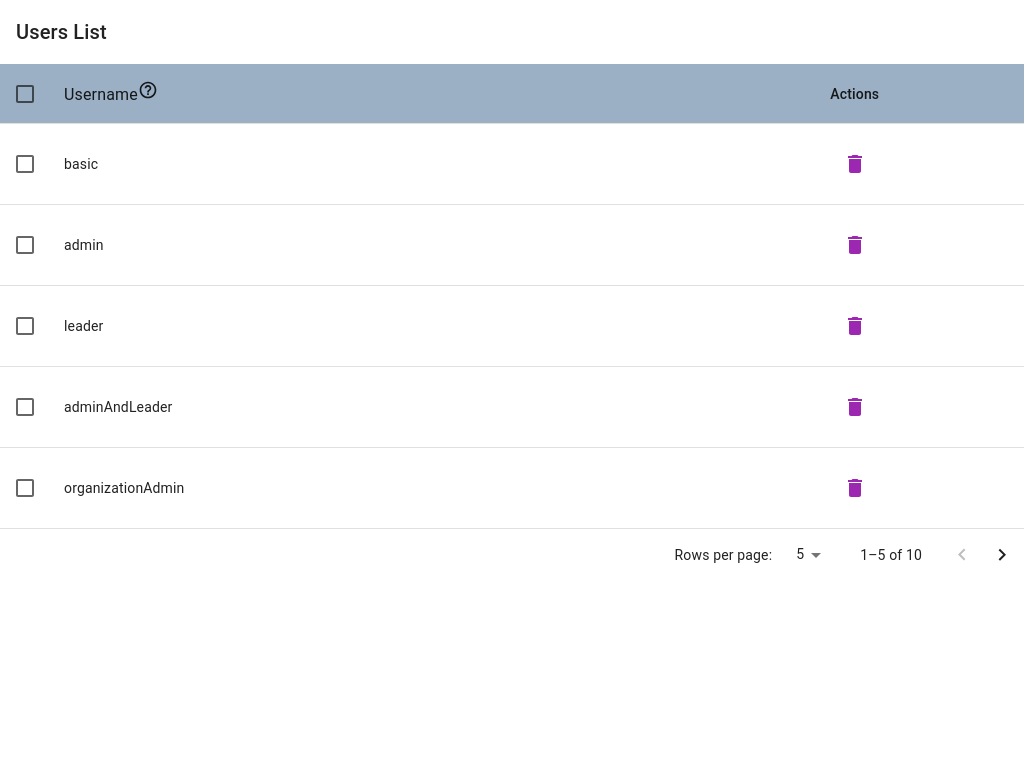
ManageUsersTable › UsersTable checkbox logic › show all users as checked if select all is clicked
The width and height of the screenshot is (1036, 768).
Click the checkbox named "select all users" at {"x": 25, "y": 94}, box x1=13 y1=82 x2=37 y2=106
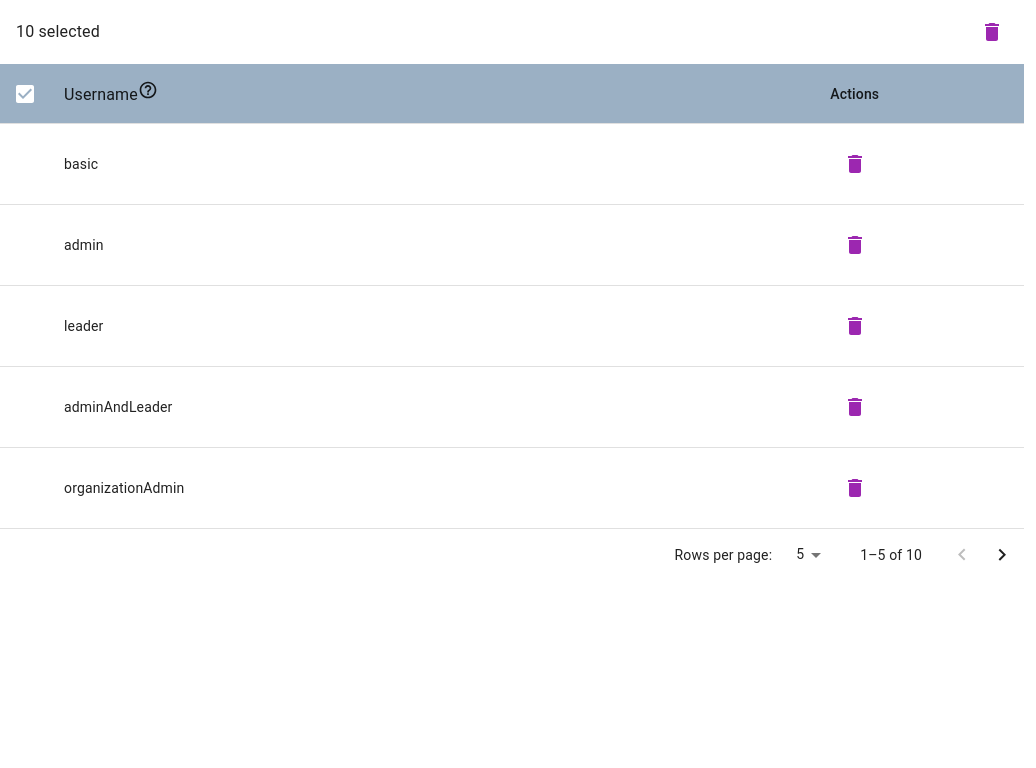
Check: the checkbox named "select all users" is checked, box x1=13 y1=82 x2=37 y2=106
Check: the checkbox named "User Table Row" is checked, box x1=0 y1=124 x2=1024 y2=204
